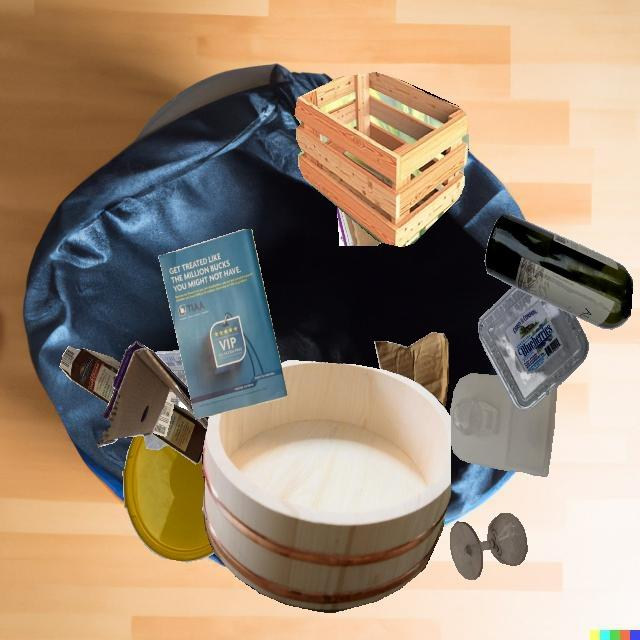cardboard: (98, 341, 194, 447), (374, 332, 448, 408), (59, 346, 121, 404), (152, 404, 206, 464), (337, 207, 382, 246)
combustible waste: (202, 360, 451, 612), (294, 72, 469, 247)
glass: (484, 213, 633, 329), (450, 513, 527, 580)
paper: (158, 229, 287, 419), (153, 391, 176, 437)
plastic: (478, 287, 588, 411), (122, 435, 214, 562), (449, 373, 557, 476), (155, 352, 171, 446), (154, 350, 188, 387), (171, 395, 194, 416), (144, 434, 169, 450)
